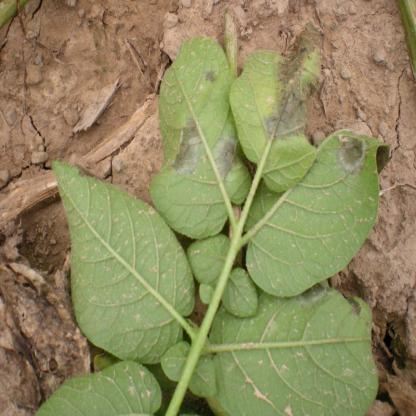potato leaf late blight: (237, 125, 392, 302), (151, 33, 252, 247), (231, 44, 328, 194)
